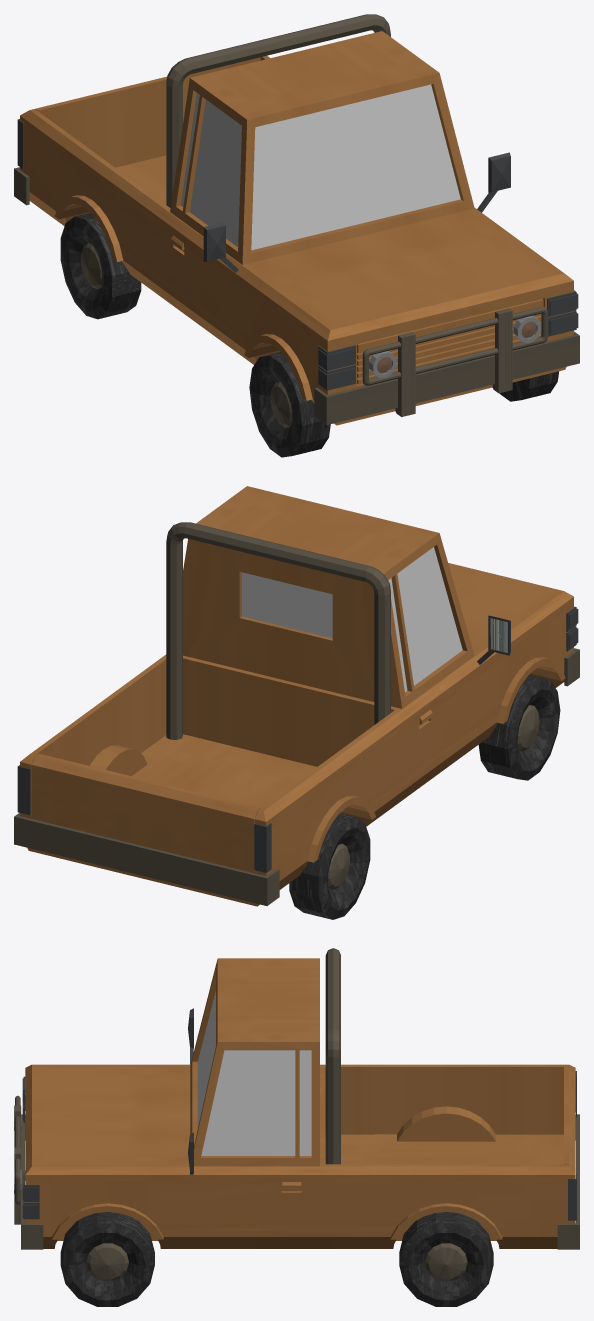
3 views of the same model, one above another, from view 1: azimuth 30°, elevation 25°; view 2: azimuth 150°, elevation 25°; view 3: azimuth 270°, elevation 25° (orthographic). The views are drawn at different scales.
Parts seen in each view (by area): view 1: car, sight, metal1, metal3, trye3, trye4, light1, trye1, mirror1, mirror2, headlight, bone4 (+1 smaller); view 2: car, sight, metal3, metal2, trye3, trye4, light2, bone4, bone3; view 3: car, sight, trye2, trye1, metal3, metal1, bone1, bone2, metal2, light1, light2.
Part boxes in pixels (x1,y1,x2,y2): car: [20, 31, 573, 425]; sight: [181, 84, 460, 250]; metal1: [314, 307, 579, 424]; metal3: [166, 14, 390, 207]; trye3: [60, 212, 141, 319]; trye4: [249, 352, 330, 457]; light1: [318, 293, 578, 388]; trye1: [499, 371, 558, 401]; mirror1: [477, 152, 510, 212]; mirror2: [203, 222, 238, 272]; headlight: [318, 290, 576, 390]; bone4: [270, 382, 292, 427]; car: [20, 486, 573, 906]; sight: [242, 547, 462, 692]; metal3: [166, 522, 390, 739]; metal2: [14, 812, 279, 905]; trye3: [289, 813, 370, 919]; trye4: [478, 675, 560, 780]; light2: [17, 765, 271, 872]; bone4: [517, 705, 539, 750]; bone3: [328, 843, 349, 889]; car: [25, 958, 575, 1248]; sight: [197, 991, 311, 1155]; trye2: [399, 1212, 493, 1306]; trye1: [60, 1212, 154, 1306]; metal3: [325, 948, 340, 1164]; metal1: [14, 1095, 43, 1249]; bone1: [86, 1243, 128, 1280]; bone2: [425, 1243, 467, 1280]; metal2: [557, 1114, 579, 1249]; light1: [22, 1078, 37, 1217]; light2: [568, 1071, 576, 1220].
Bounding box in the file's own units: 1.9 × 1.74 × 3.41.
8 materials, 7 textured.
